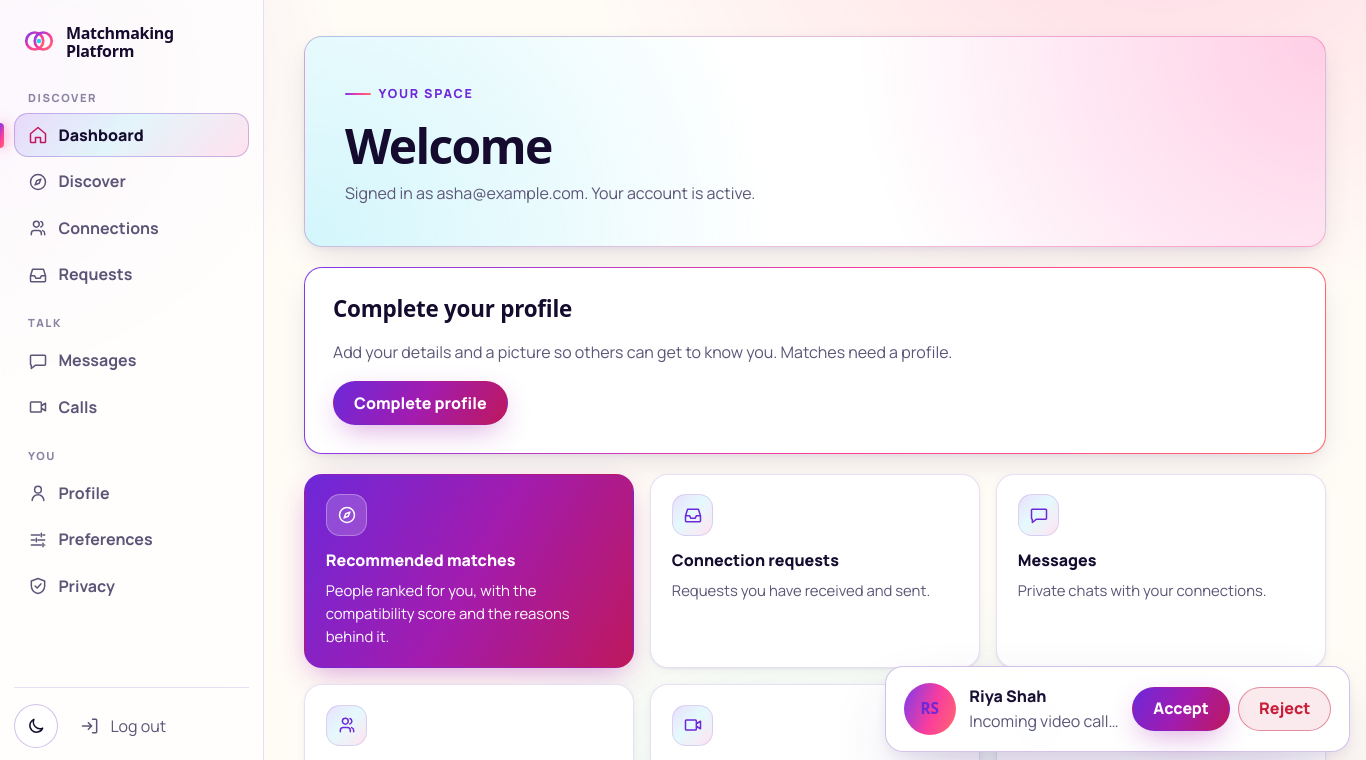
Test case: incoming calls › rejects from the dialog
The width and height of the screenshot is (1366, 760).
Expected: the heading "Welcome" is shown, x1=345 y1=113 x2=552 y2=178
Click the button "Reject". click: {"x": 1285, "y": 709}
box: x1=1238 y1=687 x2=1331 y2=731
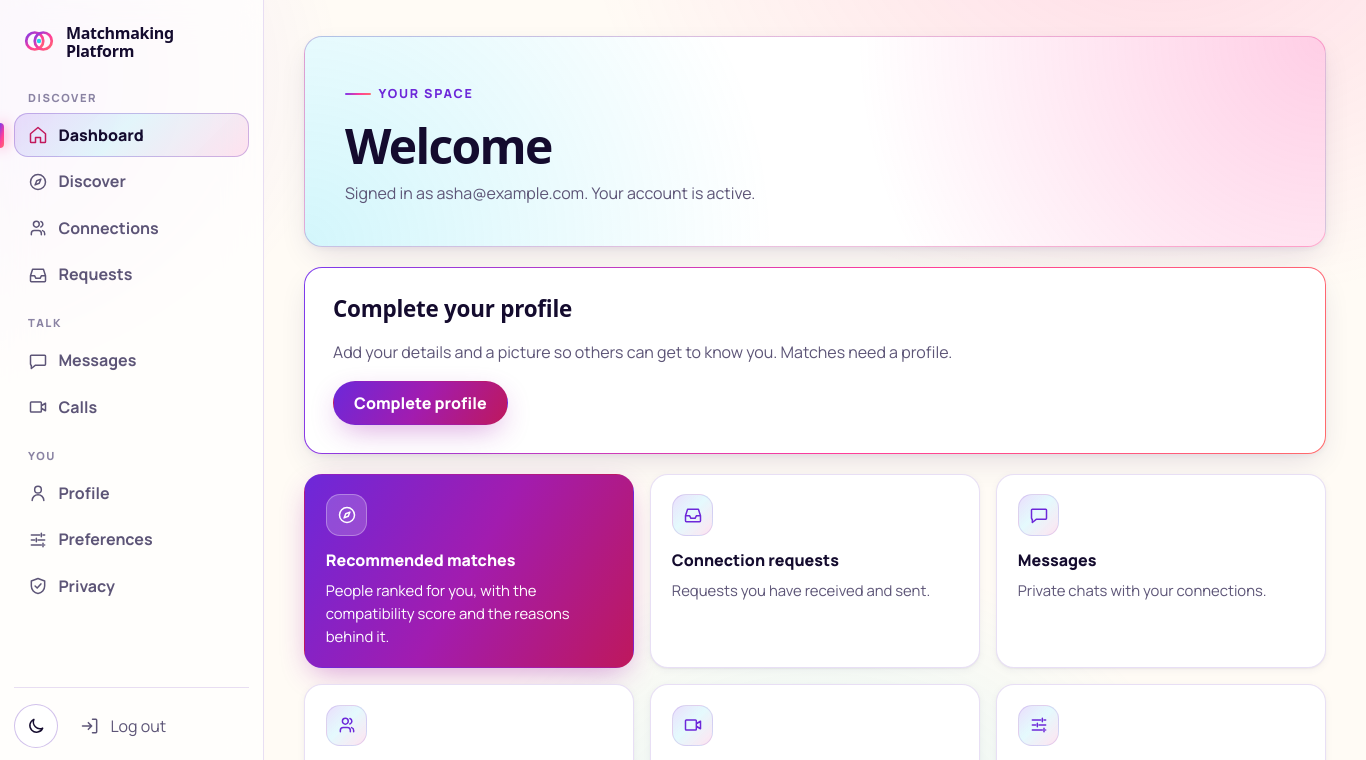
Now the dialog is gone
